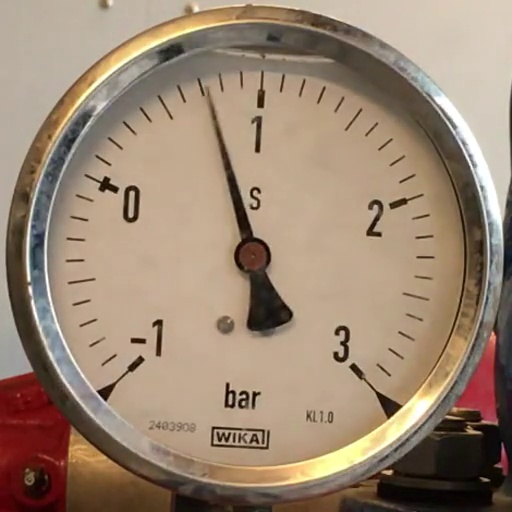base: (234, 238, 271, 274)
circle_plate: (48, 56, 466, 466)
maximum: (348, 363, 366, 381)
minimum: (127, 355, 145, 373)
number: (128, 317, 165, 359), (364, 196, 386, 240), (121, 182, 142, 225), (330, 322, 351, 364), (248, 112, 266, 156)
tip: (204, 84, 210, 91)
